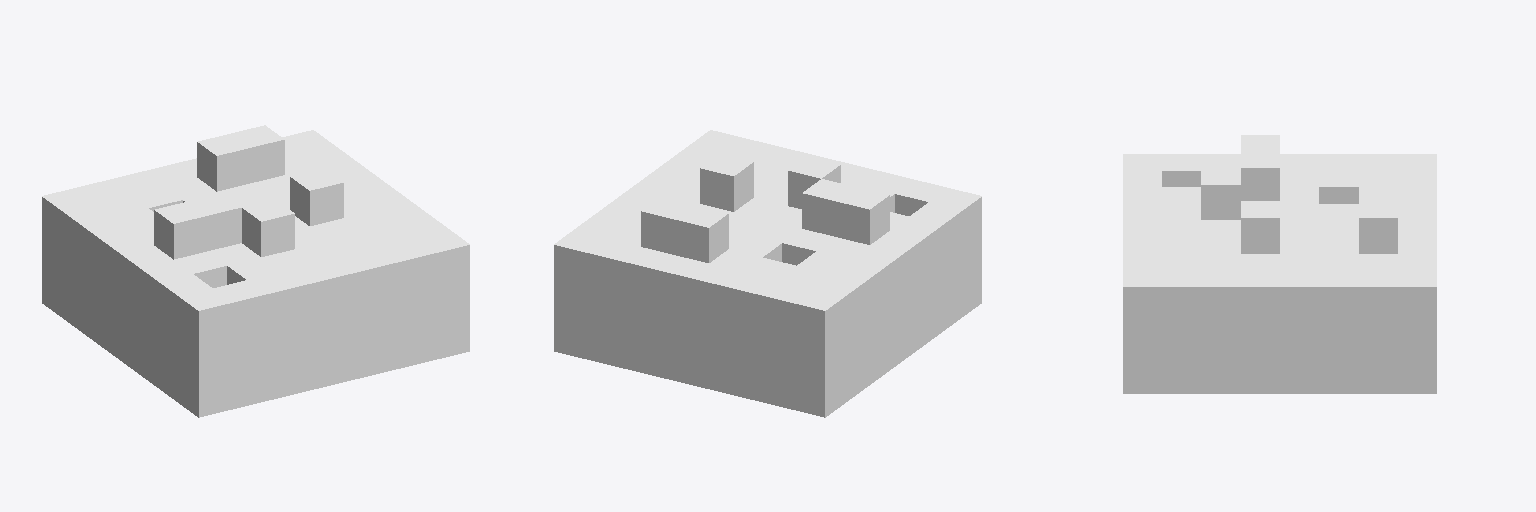
File: Lava18.obj
The picture shows the model from 3 angles: view 1: azimuth 30°, elevation 25°; view 2: azimuth 150°, elevation 25°; view 3: azimuth 270°, elevation 25°; orthographic projection.
Parts seen in each view (by area): view 1: object 1; view 2: object 1; view 3: object 1.
Part boxes in pixels (x1,y1,x2,y2): object 1: (42,125,469,417); object 1: (554,130,981,417); object 1: (1123,135,1436,393).
Size of the model in its own units: 0.8 by 0.4 by 0.8.